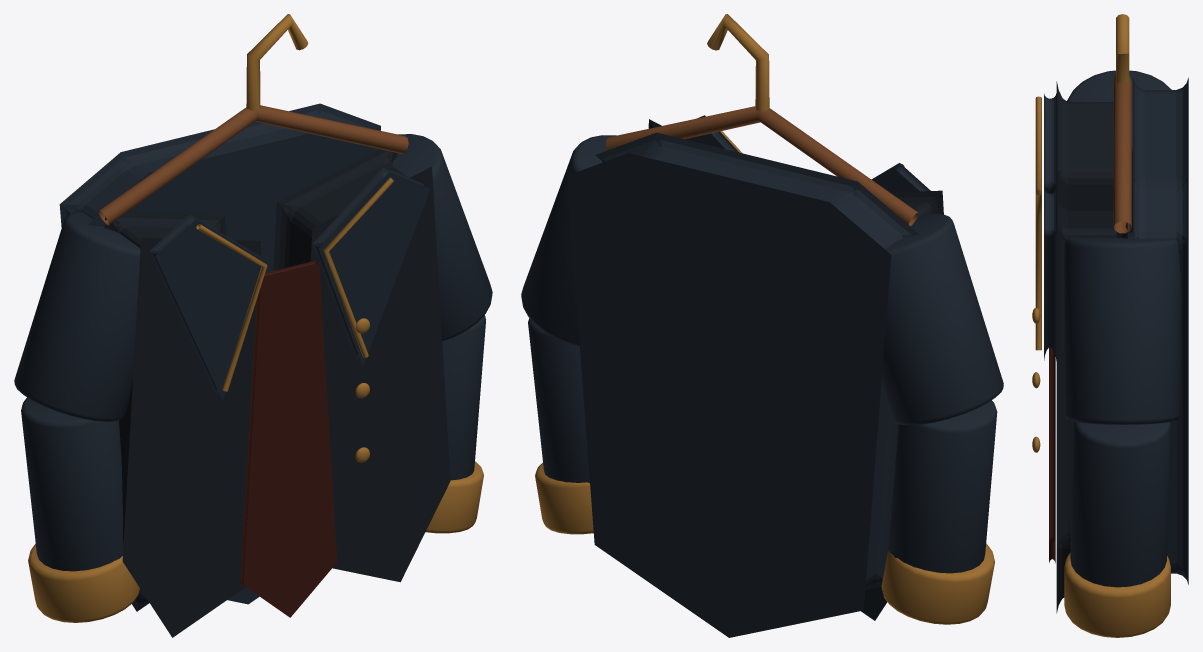
Rendered from Captain-Sean-Hanging-Jacket-v002.glb.
3 views of the same model, side by side, from view 1: azimuth 30°, elevation 25°; view 2: azimuth 150°, elevation 25°; view 3: azimuth 270°, elevation 25° (orthographic).
Parts seen in each view (by area): view 1: HangingJacket_Front_R, HangingJacket_Front_L, HangingJacket_Lining, HangingJacket_Back, HangingJacket_SleeveUpper_L, HangingJacket_SleeveLower_L, HangingJacket_Lapel_R, HangingJacket_Lapel_L, HangingJacket_SleeveUpper_R, Jacket_Hanger, HangingJacket_Cuff_L, HangingJacket_SleeveLower_R (+4 smaller); view 2: HangingJacket_Back, HangingJacket_SleeveUpper_L, HangingJacket_SleeveLower_L, HangingJacket_SleeveLower_R, HangingJacket_SleeveUpper_R, HangingJacket_Cuff_L, Jacket_Hanger, HangingJacket_Cuff_R, Jacket_Hook, HangingJacket_Front_L, HangingJacket_Lapel_L; view 3: HangingJacket_SleeveUpper_R, HangingJacket_SleeveLower_R, HangingJacket_Back, HangingJacket_Front_L, HangingJacket_Front_R, HangingJacket_Cuff_R, Jacket_Hanger, HangingJacket_Lapel_R, HangingJacket_SleeveUpper_L, HangingJacket_Lining, HangingJacket_Lapel_L, HangingJacket_Trim_R (+2 smaller).
Part boxes in pixels (bbox=[...]): HangingJacket_Front_R: bbox=[273, 149, 450, 582]; HangingJacket_Front_L: bbox=[104, 212, 261, 637]; HangingJacket_Lining: bbox=[240, 260, 337, 617]; HangingJacket_Back: bbox=[59, 103, 408, 604]; HangingJacket_SleeveUpper_L: bbox=[14, 212, 140, 421]; HangingJacket_SleeveLower_L: bbox=[21, 397, 123, 571]; HangingJacket_Lapel_R: bbox=[312, 167, 430, 366]; HangingJacket_Lapel_L: bbox=[149, 214, 267, 400]; HangingJacket_SleeveUpper_R: bbox=[392, 134, 492, 340]; Jacket_Hanger: bbox=[98, 105, 408, 225]; HangingJacket_Cuff_L: bbox=[28, 544, 139, 622]; HangingJacket_SleeveLower_R: bbox=[442, 315, 485, 480]; HangingJacket_Back: bbox=[567, 132, 919, 637]; HangingJacket_SleeveUpper_L: bbox=[881, 214, 1003, 425]; HangingJacket_SleeveLower_L: bbox=[888, 400, 997, 573]; HangingJacket_SleeveLower_R: bbox=[528, 318, 589, 483]; HangingJacket_SleeveUpper_R: bbox=[521, 135, 616, 345]; HangingJacket_Cuff_L: bbox=[881, 543, 994, 624]; Jacket_Hanger: bbox=[606, 106, 918, 226]; HangingJacket_Cuff_R: bbox=[535, 463, 593, 534]; Jacket_Hook: bbox=[707, 14, 769, 111]; HangingJacket_Front_L: bbox=[861, 190, 943, 620]; HangingJacket_Lapel_L: bbox=[871, 163, 930, 192]; HangingJacket_SleeveUpper_R: bbox=[1064, 232, 1181, 424]; HangingJacket_SleeveLower_R: bbox=[1070, 421, 1170, 587]; HangingJacket_Back: bbox=[1133, 77, 1188, 584]; HangingJacket_Front_L: bbox=[1056, 81, 1113, 210]; HangingJacket_Front_R: bbox=[1056, 197, 1127, 613]; HangingJacket_Cuff_R: bbox=[1064, 552, 1170, 637]; Jacket_Hanger: bbox=[1113, 75, 1131, 233]; HangingJacket_Lapel_R: bbox=[1044, 187, 1056, 361]; HangingJacket_SleeveUpper_L: bbox=[1067, 70, 1171, 232]; HangingJacket_Lining: bbox=[1049, 347, 1055, 563]; HangingJacket_Lapel_L: bbox=[1044, 93, 1056, 193]; HangingJacket_Trim_R: bbox=[1035, 189, 1041, 350].
Bounding box in the file's own units: 1.05 × 1.27 × 0.308.
